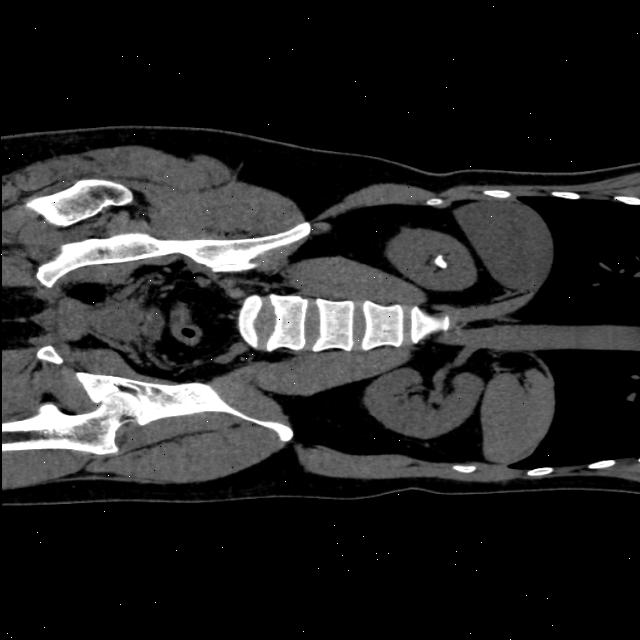kidneystone: (435, 255, 447, 269)
